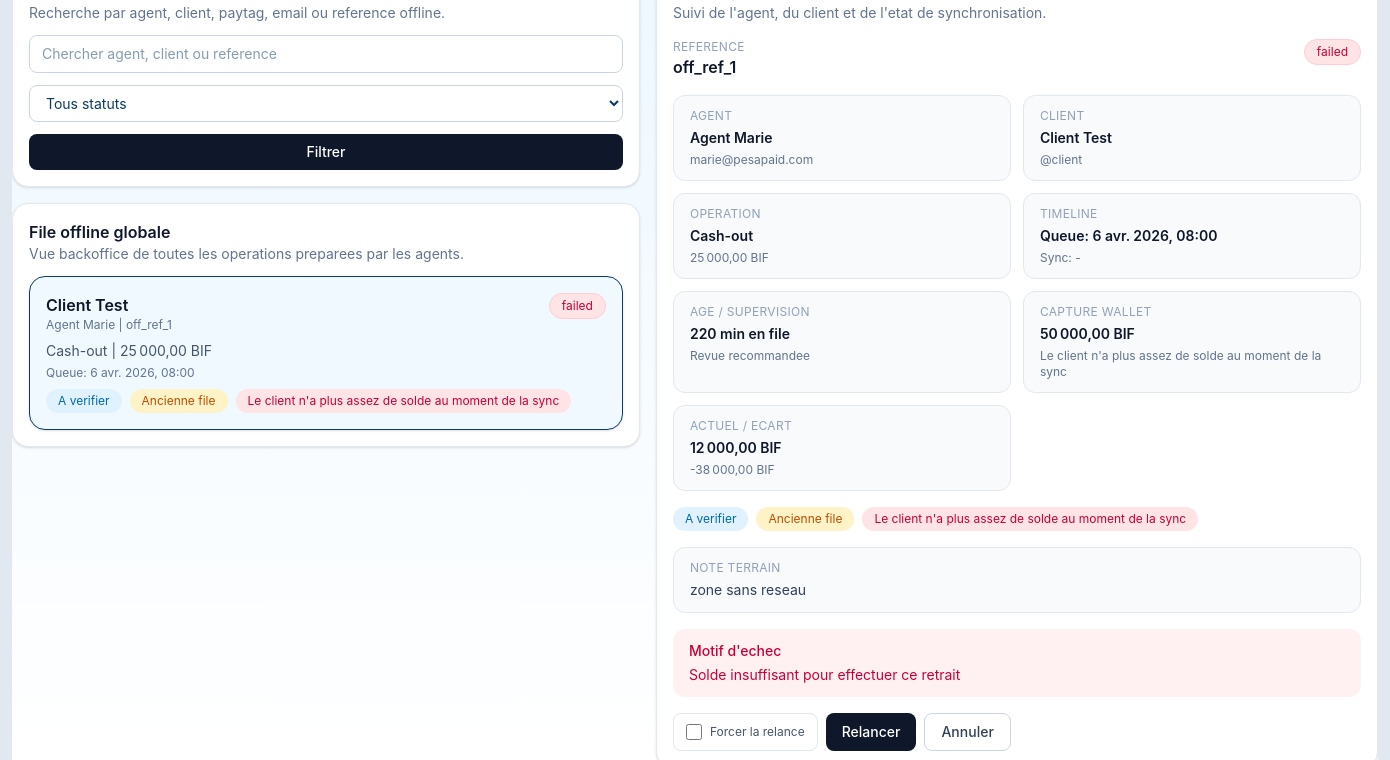
Test: AdminAgentOfflineOpsPage › loads offline operations and retries a failed sync
This screenshot has width=1390, height=760.
(page scrolled)
Check: the text "Client Test" below "File offline globale" is shown, box [46,295,128,315]
Check: the text "Motif d'echec" is shown, box [689,642,781,659]
Click the button "Relancer" at (871, 732), box [826,713,916,751]
(page scrolled)
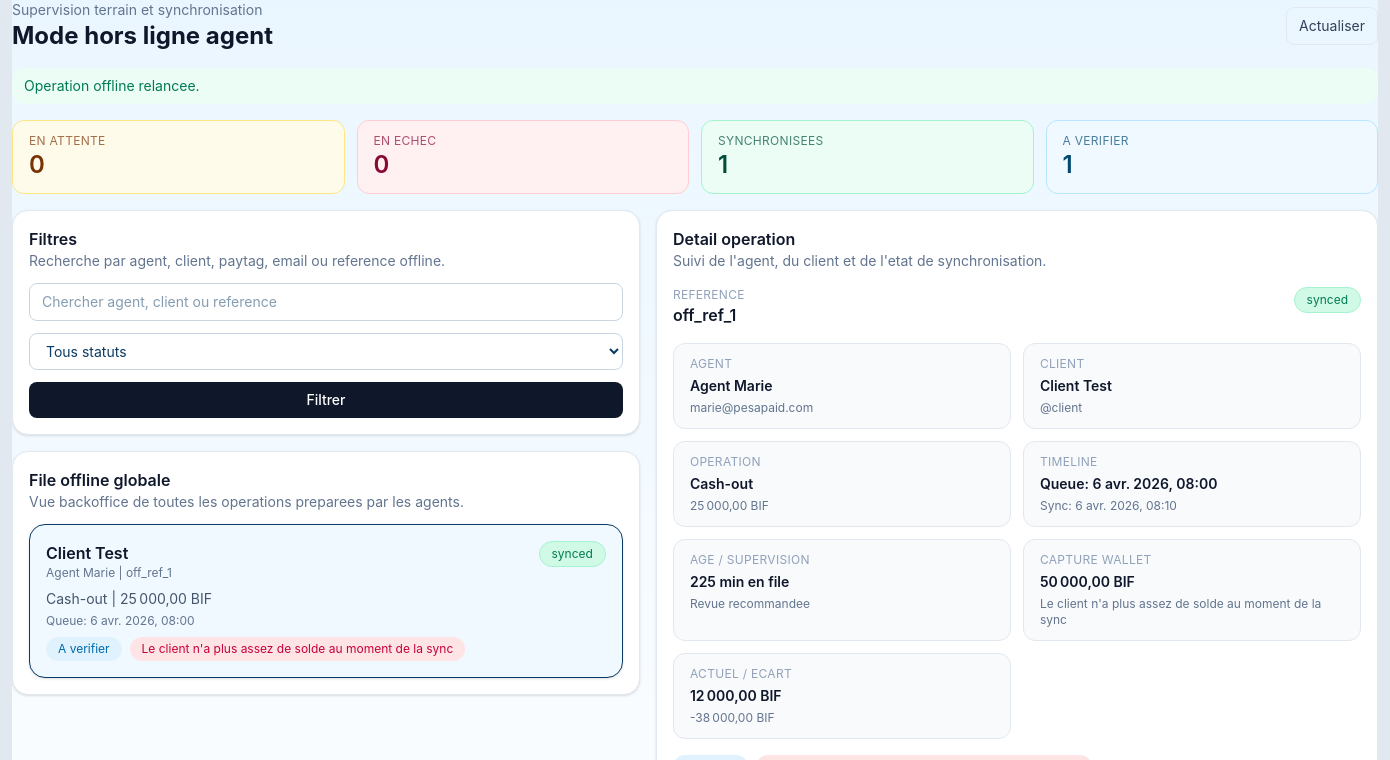
Check: the text "Operation offline relancee." is shown, box [12,68,1378,104]
